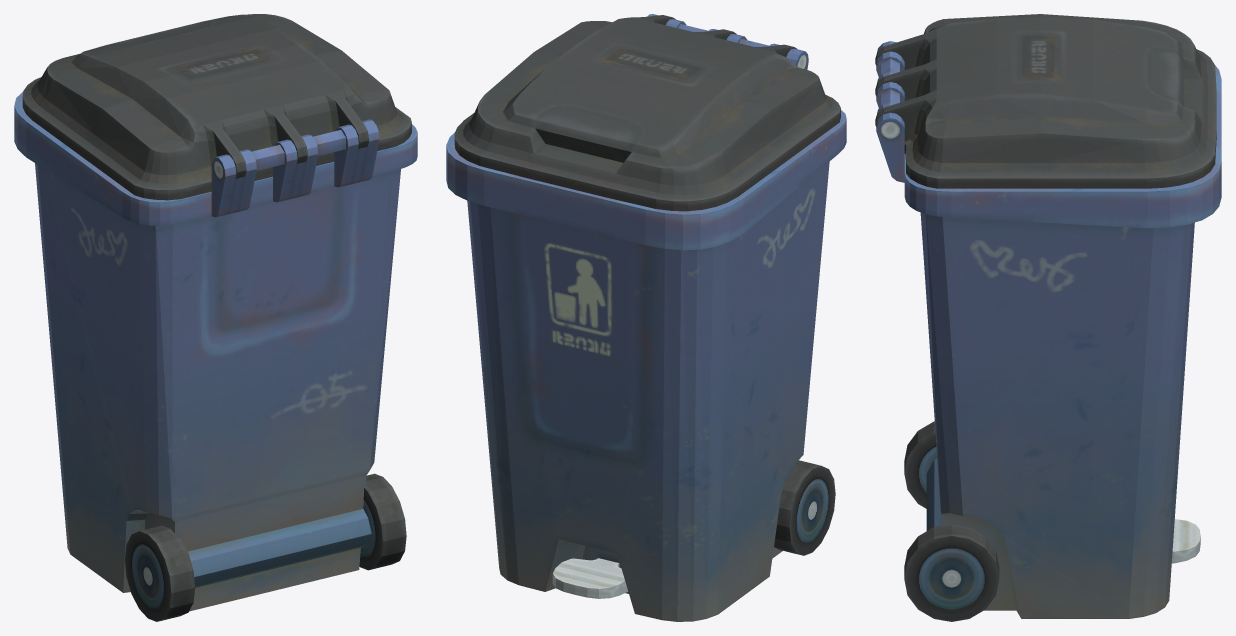
The model's file is P_Dumpster_003_S1_M02.obj.
3 renders of one model, left to right at view 1: azimuth 30°, elevation 25°; view 2: azimuth 150°, elevation 25°; view 3: azimuth 270°, elevation 25°, orthographic. The views are drawn at different scales.
Bounding box in the file's own units: 0.8489 × 1.4 × 0.8663.
1 material, 1 textured.
